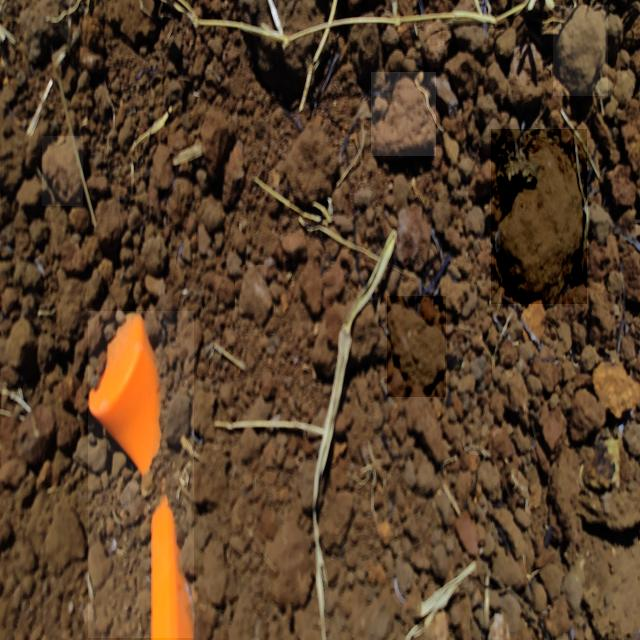Orange_hammer: (88, 311, 194, 638)
rock: (491, 129, 587, 304), (387, 296, 446, 397), (371, 72, 436, 156), (553, 5, 608, 96), (42, 136, 83, 206), (236, 266, 276, 336)
